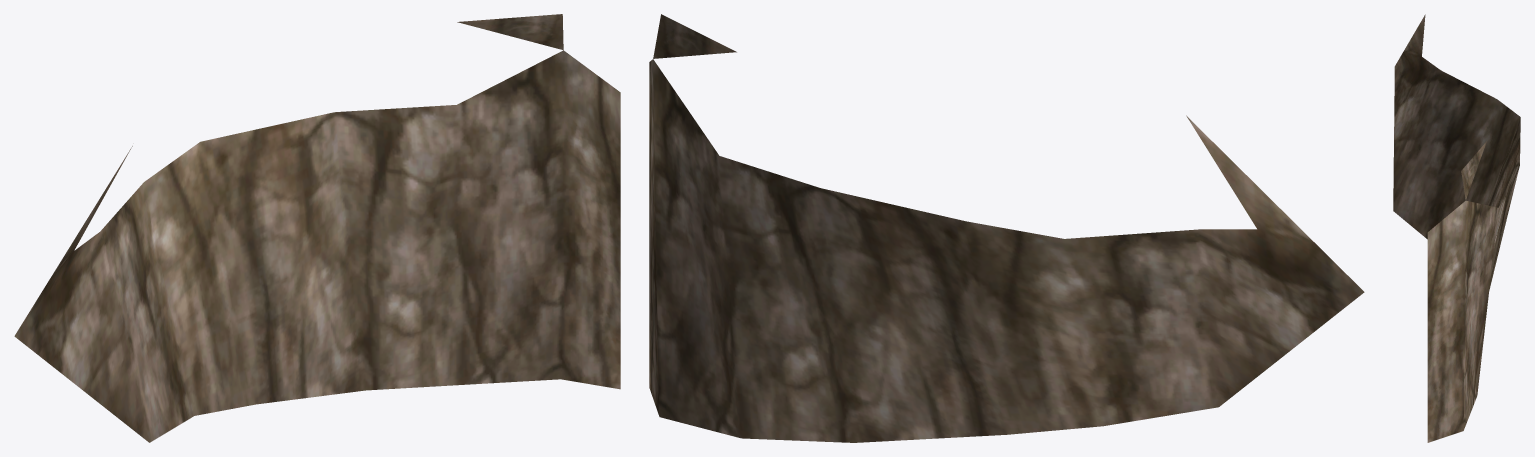
File: OVERHILL_A_01_OBJECT135.fbx
The picture shows the model from 3 angles, left to right: view 1: azimuth 30°, elevation 25°; view 2: azimuth 150°, elevation 25°; view 3: azimuth 270°, elevation 25°; orthographic projection. The views are drawn at different scales.
Parts seen in each view (by area): view 1: OVERHILL_A_01_OBJECT135; view 2: OVERHILL_A_01_OBJECT135; view 3: OVERHILL_A_01_OBJECT135.
Boxes of the visible parts, <box> form: OVERHILL_A_01_OBJECT135: <box>14,14,620,442</box>; OVERHILL_A_01_OBJECT135: <box>649,14,1364,442</box>; OVERHILL_A_01_OBJECT135: <box>1393,14,1520,442</box>.
Bounding box in the file's own units: 93290 × 51900 × 23061.
Materials: 1 (1 with a texture image).
